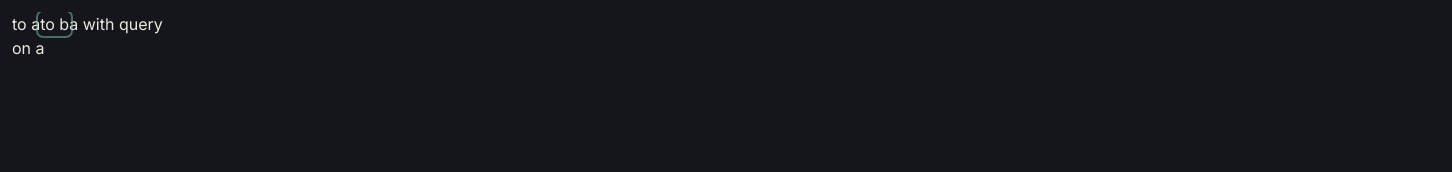
Test: useRouteFocus › moves focus to <main> after a link navigation
Click the link "to b" at x=55, y=24, box 40,14 -> 69,34
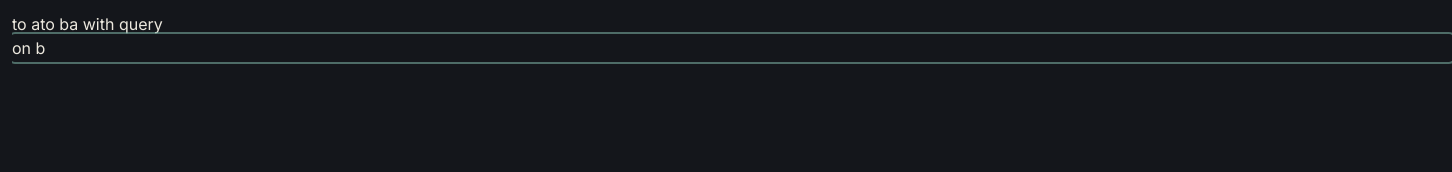
expect the button "on b" is shown: met, box 12,36 -> 45,60
